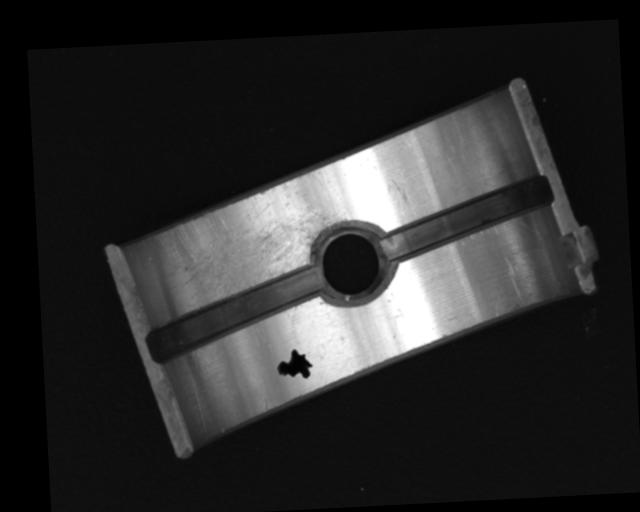blot: (275, 346, 315, 381)
gap: (148, 266, 324, 362), (377, 173, 554, 261)
hole: (310, 219, 393, 311)
nick: (503, 257, 526, 306)
scratch: (155, 161, 348, 309)
